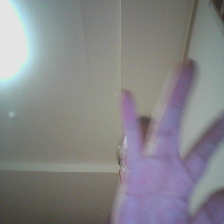hand: (117, 48, 223, 223)
